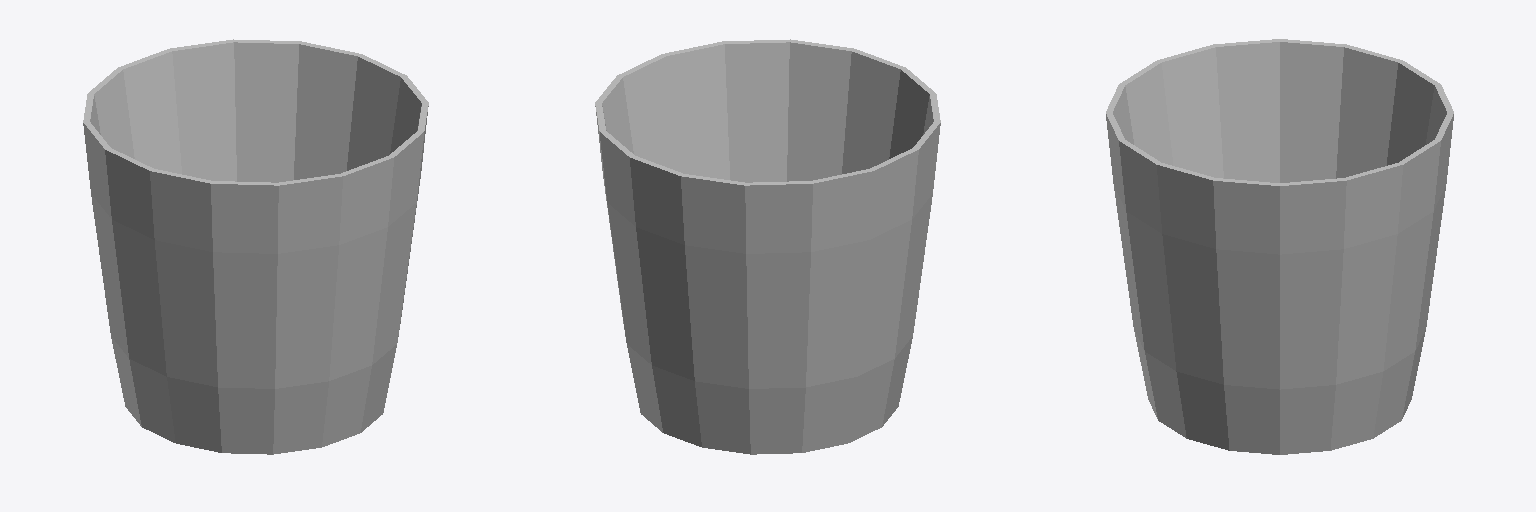
File: small_cup_simple_textured.obj
3 views of the same model, side by side, from view 1: azimuth 30°, elevation 25°; view 2: azimuth 150°, elevation 25°; view 3: azimuth 270°, elevation 25° (orthographic).
Parts seen in each view (by area): view 1: Small_Cup; view 2: Small_Cup; view 3: Small_Cup.
Boxes of the visible parts, box(x1,y1,x2,y2) form: Small_Cup: box(83, 39, 428, 454); Small_Cup: box(595, 39, 940, 454); Small_Cup: box(1106, 39, 1453, 454).
Size of the model in its own units: 0.1186 by 0.1076 by 0.1186.